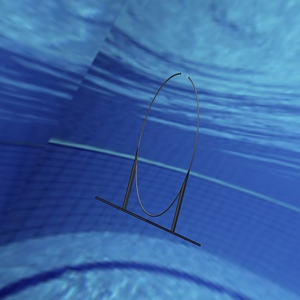circle: (93, 69, 201, 249)
